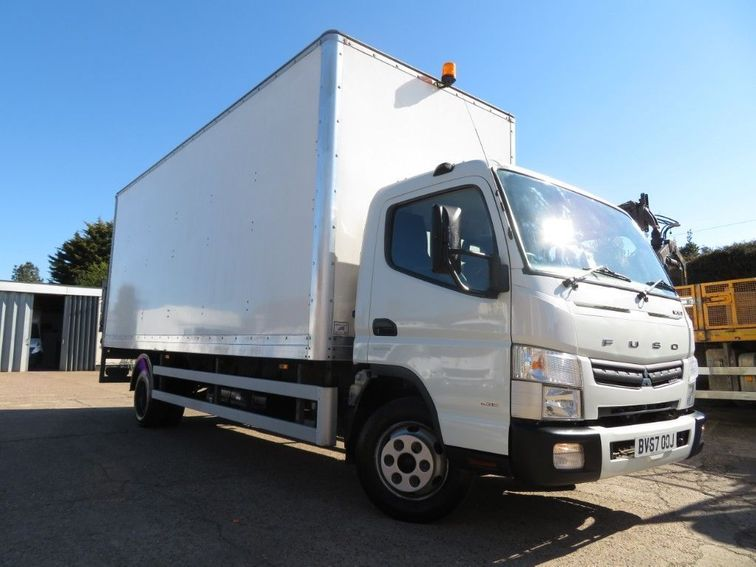Semi: (97, 30, 704, 520)
